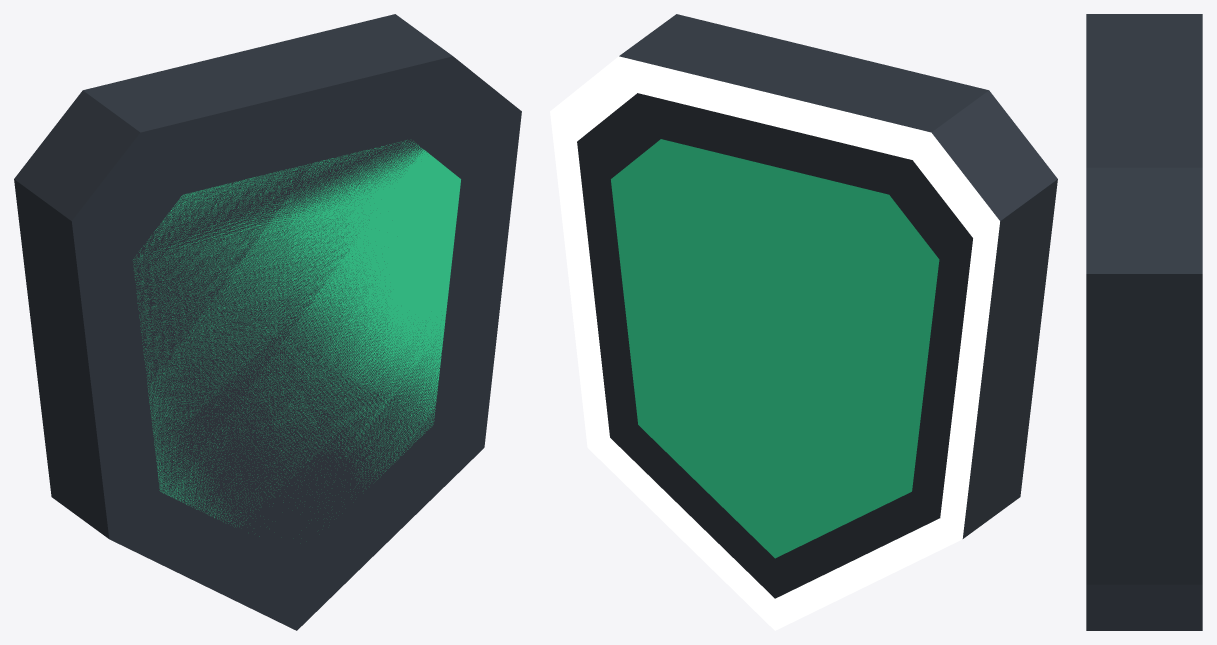
Rendered from shield-v1.glb.
3 renders of one model, left to right at view 1: azimuth 30°, elevation 25°; view 2: azimuth 150°, elevation 25°; view 3: azimuth 270°, elevation 25°, orthographic.
Visible parts, largest first — view 1: guard/shield-v1; view 2: guard/shield-v1; view 3: guard/shield-v1.
Boxes of the visible parts, left/top/right/bottom form: guard/shield-v1: left=14, top=14, right=521, bottom=630; guard/shield-v1: left=550, top=14, right=1057, bottom=630; guard/shield-v1: left=1086, top=14, right=1202, bottom=630.
Bounding box in the file's own units: 0.72 × 0.82 × 0.16.
